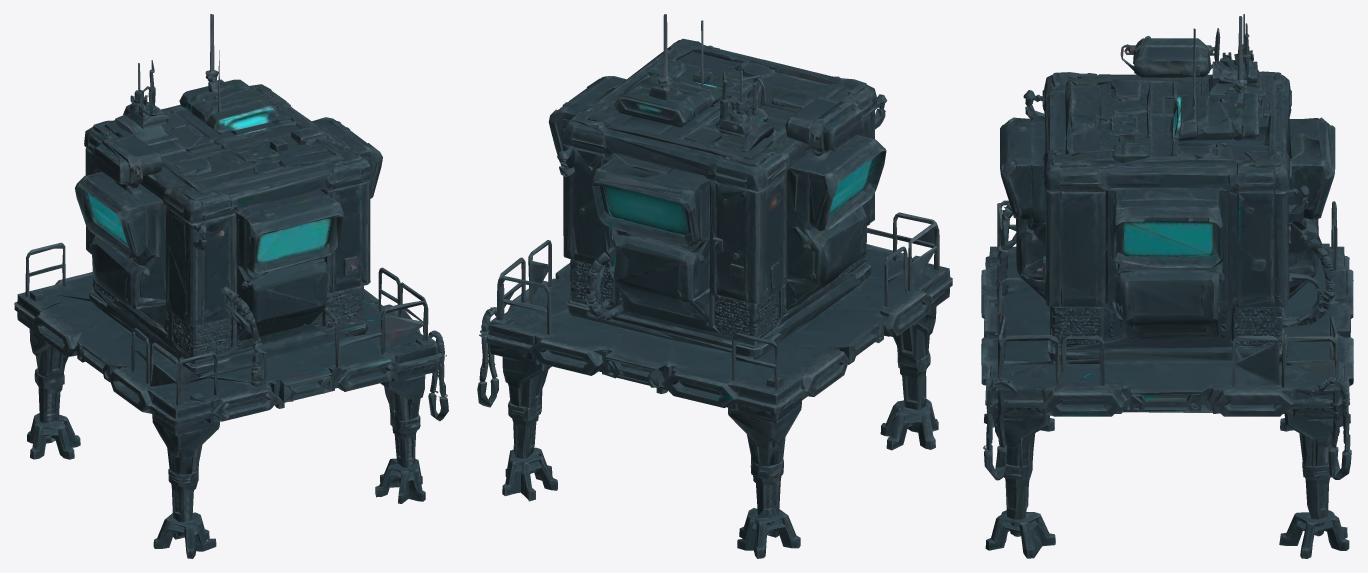
The model's file is mx_map_watchtower.glb.
3 views of the same model, side by side, from view 1: azimuth 30°, elevation 25°; view 2: azimuth 150°, elevation 25°; view 3: azimuth 270°, elevation 25° (orthographic). The views are drawn at different scales.
Bounding box in the file's own units: 1.3 × 1.9 × 1.34.
Materials: 1 (1 with a texture image).
